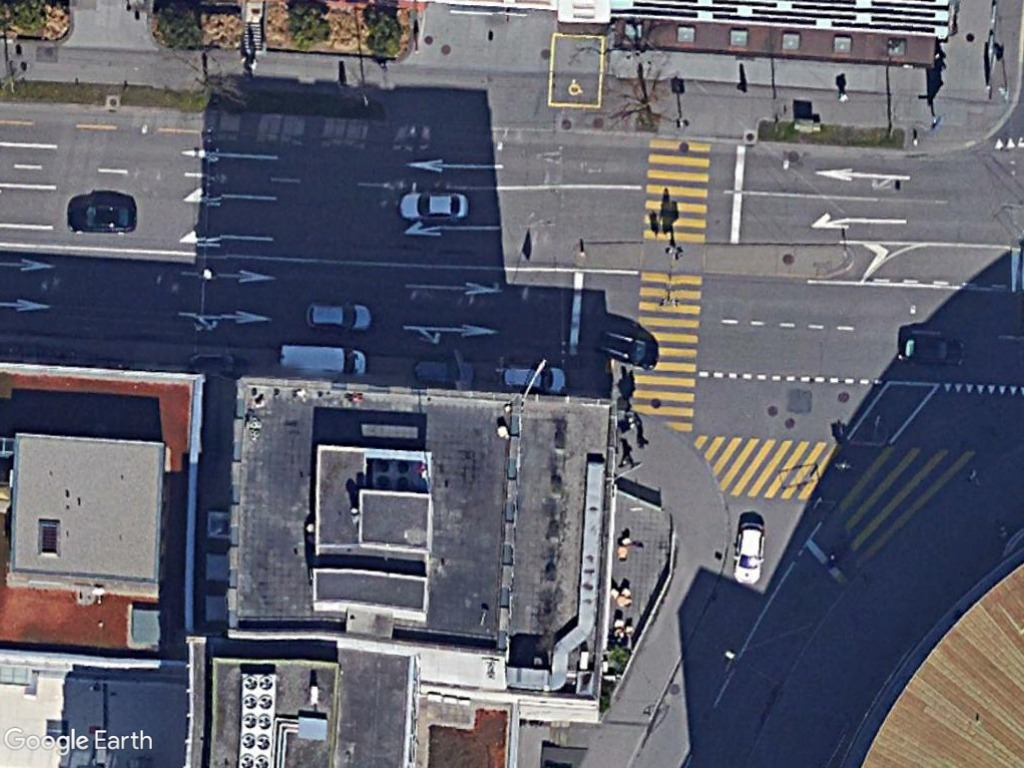car: (303, 300, 373, 335), (731, 519, 766, 587), (398, 191, 469, 222), (500, 364, 570, 395)
